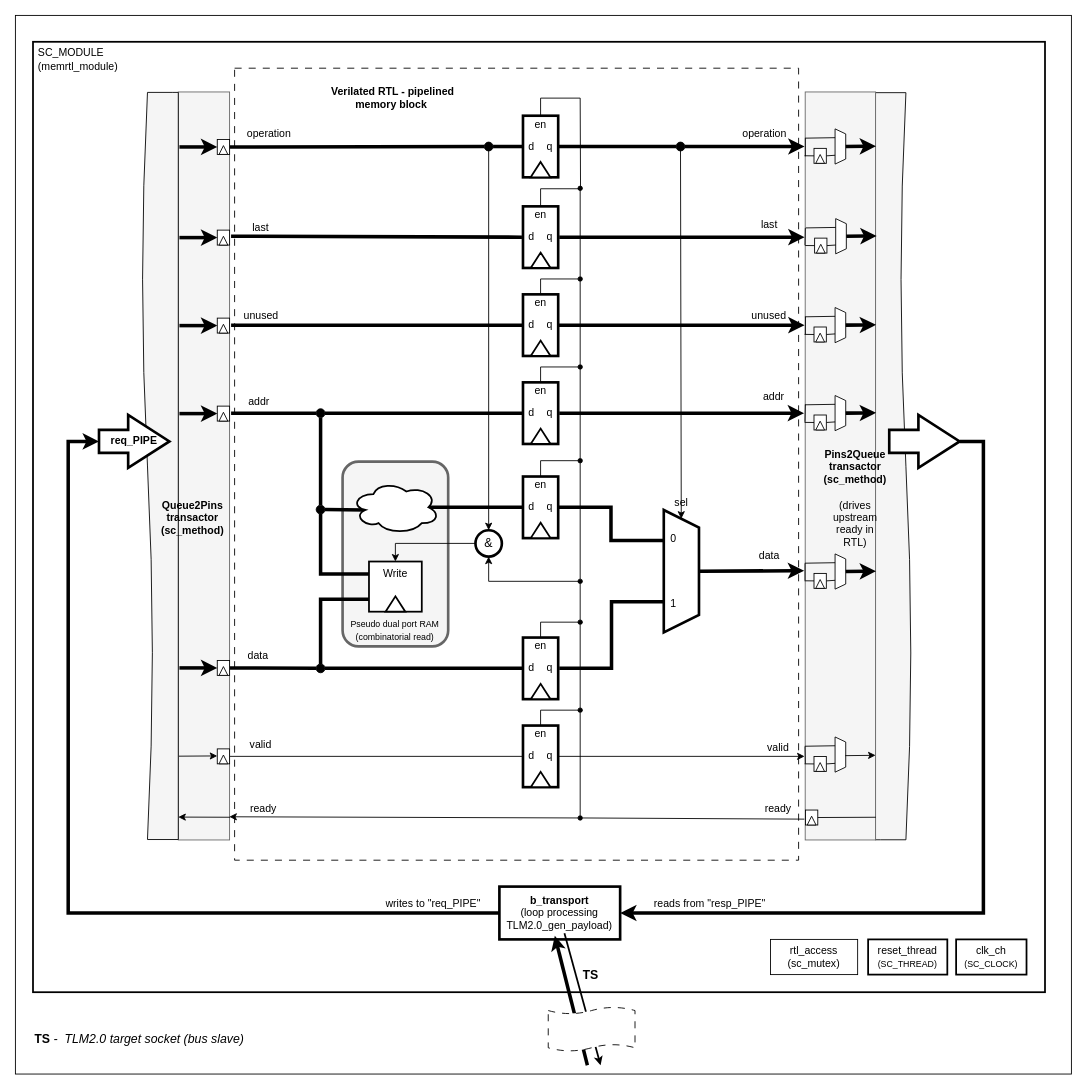
Some shapes in this 1087 by 1089 pixel diagram are drawn without their labels. The box of each missing label's shape, as (x1, y1, x2, y2) in pixels:
Comb READ: (350, 480, 440, 534)
resp_PIPE: (887, 413, 961, 469)
TLM2.0 gen payload: (547, 1006, 635, 1051)
